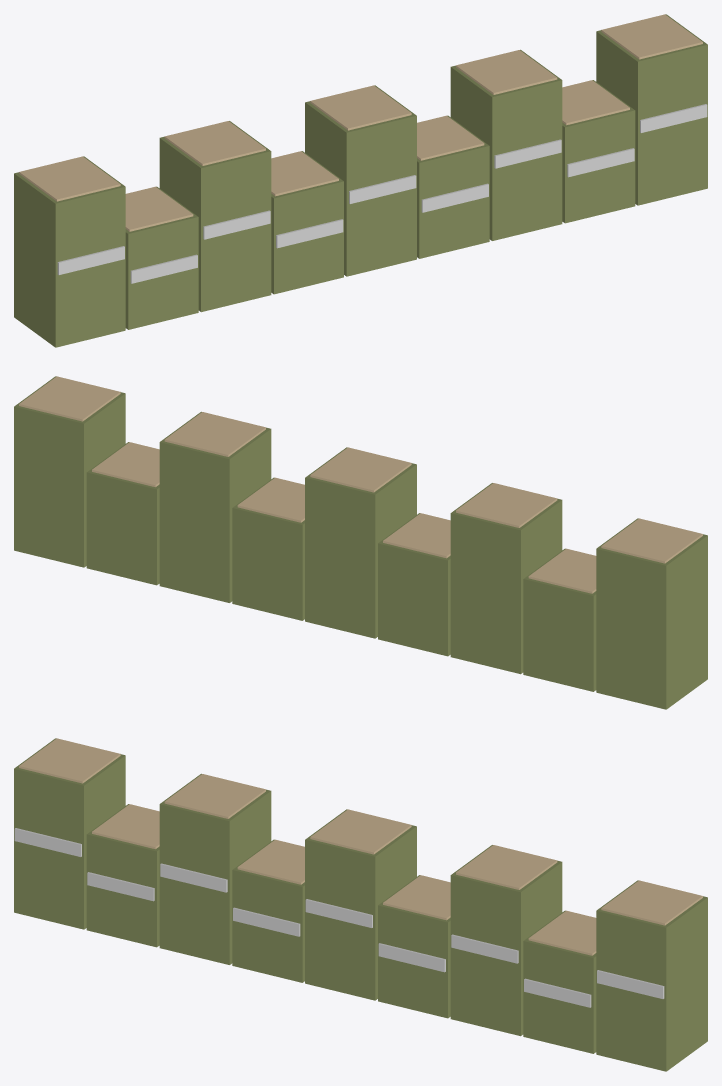
Rendered from SM_MuroHesco_v2_Escalonado_e0_Sano_LOD1.fbx.
The picture shows the model from 3 angles, top to bottom: view 1: azimuth 30°, elevation 25°; view 2: azimuth 150°, elevation 25°; view 3: azimuth 330°, elevation 25°; orthographic projection.
Visible parts, largest first — view 1: SM_bloques.muro_hesco_estados_v8_LOD1; view 2: SM_bloques.muro_hesco_estados_v8_LOD1; view 3: SM_bloques.muro_hesco_estados_v8_LOD1.
Boxes of the visible parts, box(x1,y1,x2,y2) form: SM_bloques.muro_hesco_estados_v8_LOD1: box(14, 14, 707, 347); SM_bloques.muro_hesco_estados_v8_LOD1: box(14, 376, 707, 709); SM_bloques.muro_hesco_estados_v8_LOD1: box(14, 738, 707, 1071).
Size of the model in its own units: 9.96 by 2.13 by 1.13.
